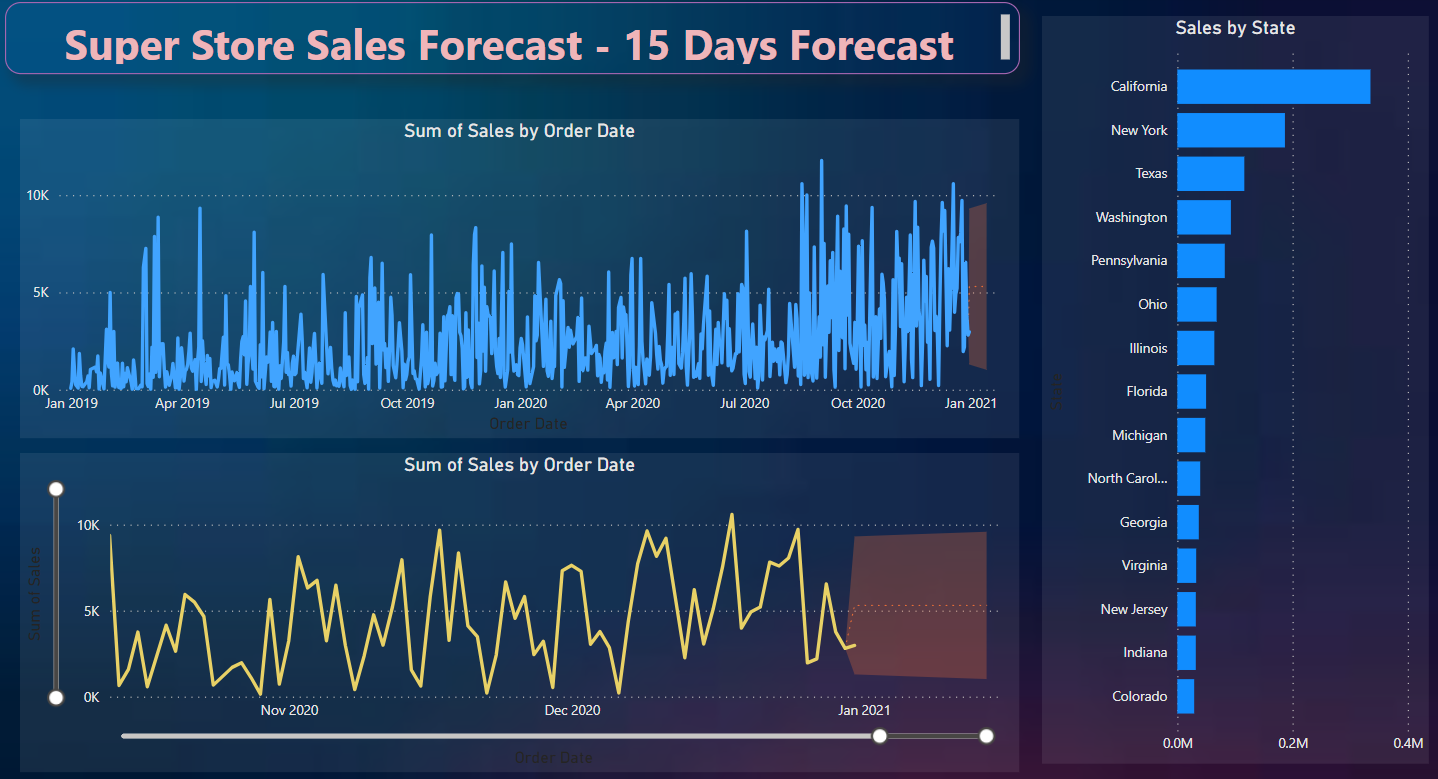

What the dashboard file says about the page in this screenshot:
{"tool":"powerbi","page":{"name":"Forecasting","canvas":[1280,720],"ordinal":1},"visuals":[{"type":"lineChart","fields":{"Y":["Sum(Sheet1.Sales)"],"Category":["Sheet1.Order Date"]},"box":[21.4,108,886.1,283],"z":0},{"type":"lineChart","fields":{"Y":["Sum(Sheet1.Sales)"],"Category":["Sheet1.Order Date"]},"box":[21.4,404.6,886.1,283],"z":1000},{"type":"textbox","box":[7.8,4.9,899.7,64.2],"z":1001},{"type":"barChart","title":"Sales by State","fields":{"Y":["Sum(Sheet1.Sales)"],"Category":["Sheet1.State"]},"box":[927.9,16.5,343.3,663.3],"z":1002}]}

Visuals, with their boxes on the page's 1280x720 design canvas (x1, y1, x2, y2). These are canvas units, not pixel positions in the 1438x779 screenshot, which may show the page scaled, cropped or inside an application window:
lineChart - Sum(Sheet1.Sales) x Sheet1.Order Date: (21, 108, 908, 391)
lineChart - Sum(Sheet1.Sales) x Sheet1.Order Date: (21, 405, 908, 688)
textbox: (8, 5, 908, 69)
"Sales by State" barChart: (928, 16, 1271, 680)
